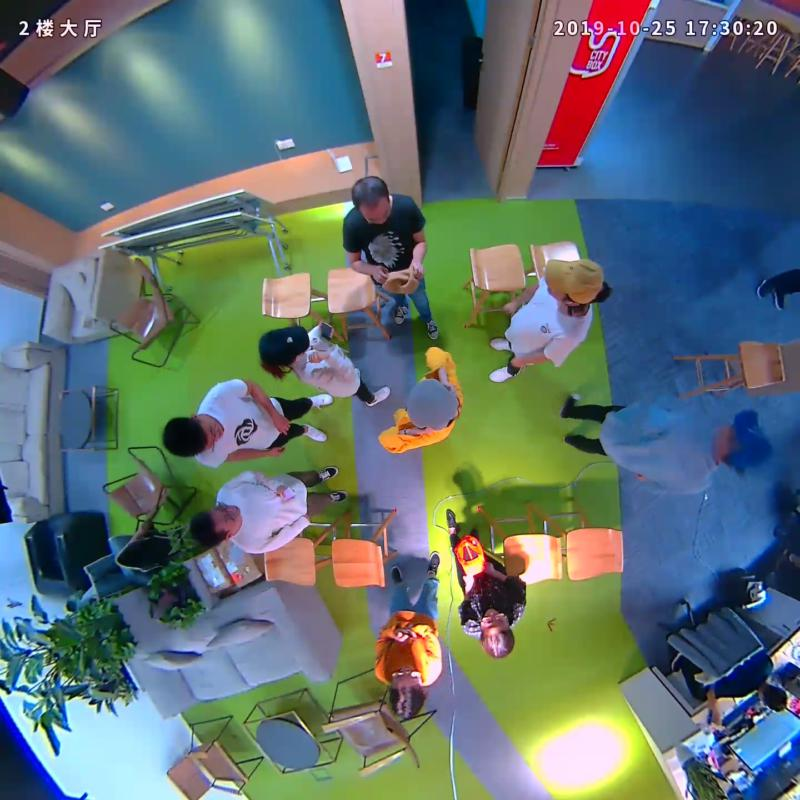head: (716, 408, 772, 469), (543, 255, 606, 306), (405, 377, 460, 430), (163, 416, 221, 456), (387, 663, 425, 720), (258, 325, 310, 366), (190, 505, 242, 546), (352, 176, 391, 226), (479, 607, 516, 659)
